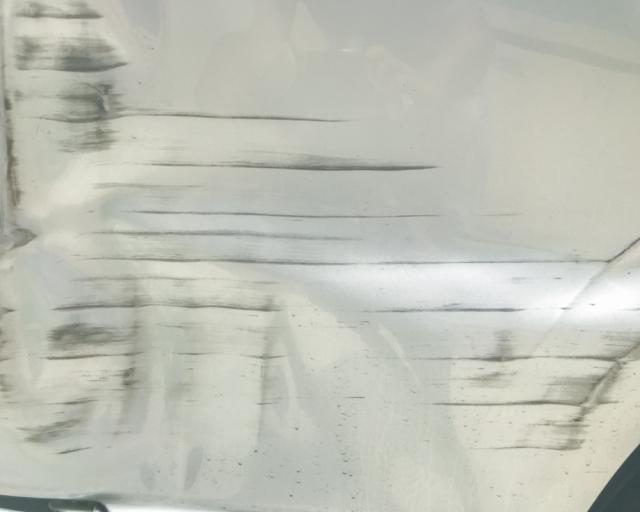scratch: (370, 308, 640, 459), (165, 106, 450, 179)
